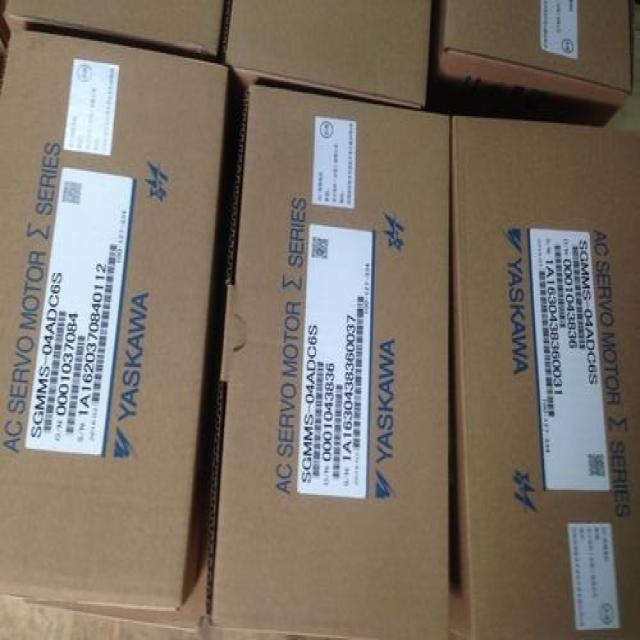box: (204, 79, 450, 638), (0, 34, 228, 608), (448, 112, 639, 638), (425, 4, 633, 123), (215, 3, 434, 110), (21, 511, 214, 631), (2, 1, 224, 62)
